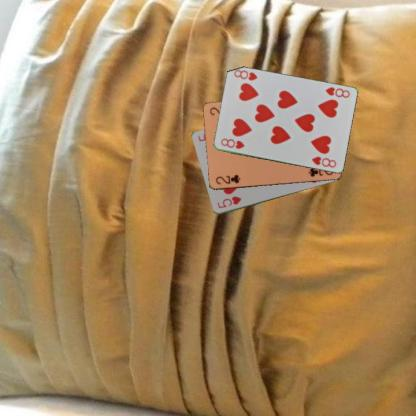2c: (213, 172, 242, 186)
5h: (215, 194, 243, 210)
8h: (322, 84, 351, 100), (218, 136, 245, 150)
